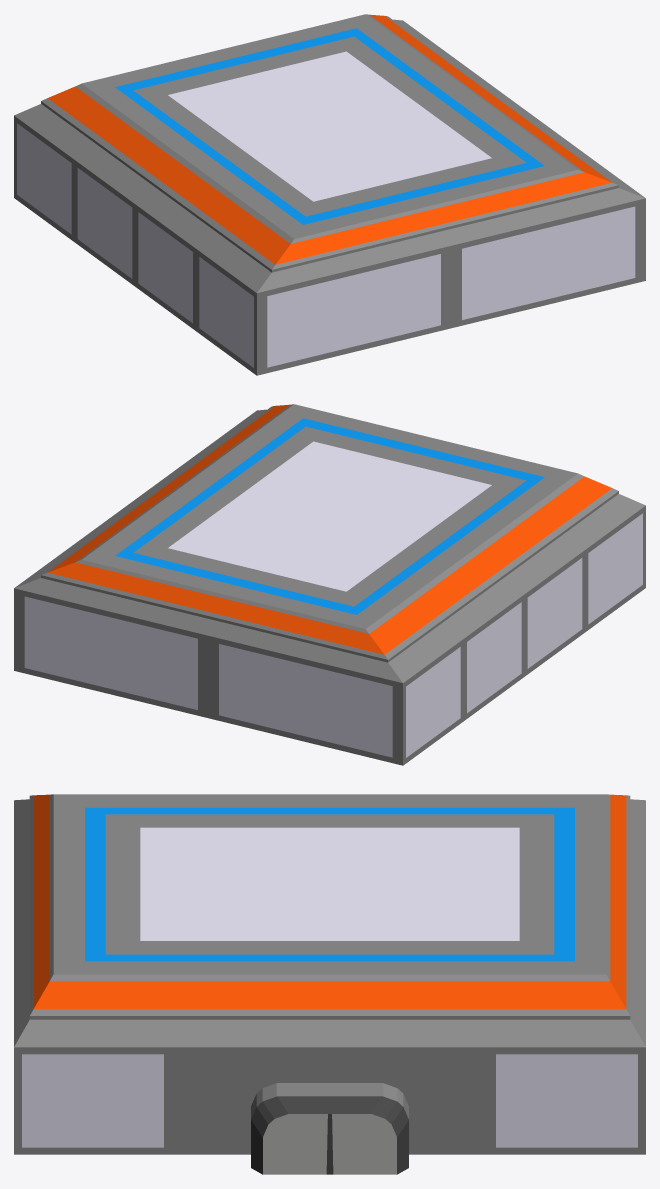
Rendered from Environment_C_Placement.fbx.
3 renders of one model, top to bottom at view 1: azimuth 30°, elevation 25°; view 2: azimuth 150°, elevation 25°; view 3: azimuth 270°, elevation 25°, orthographic. The views are drawn at different scales.
Parts seen in each view (by area): view 1: Cube; view 2: Cube; view 3: Cube.
Boxes of the visible parts, x1=… form: Cube: x1=14, y1=14, x2=645, y2=375; Cube: x1=14, y1=404, x2=645, y2=765; Cube: x1=14, y1=794, x2=645, y2=1174.
Bounding box in the file's own units: 4 × 1.03 × 4.
